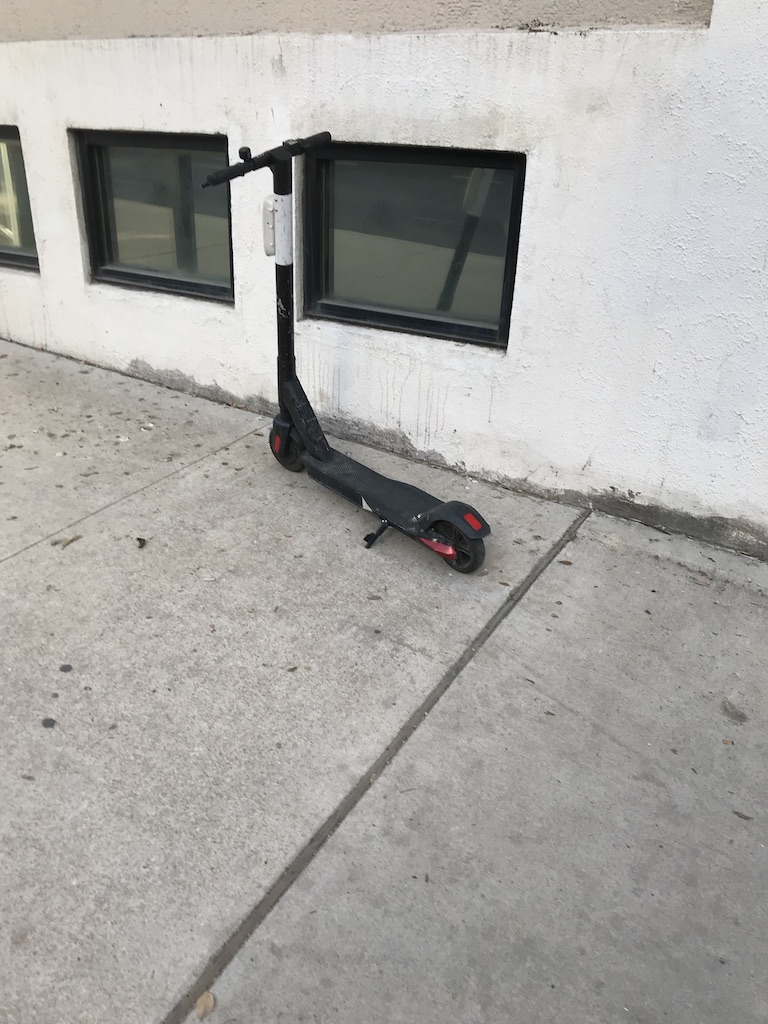scooter: (201, 131, 491, 576)
